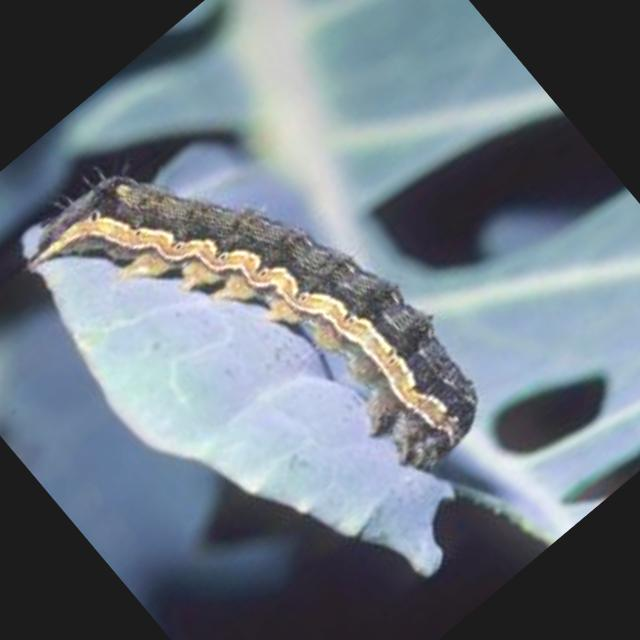Cotton bollworm: (0, 6, 575, 629)
